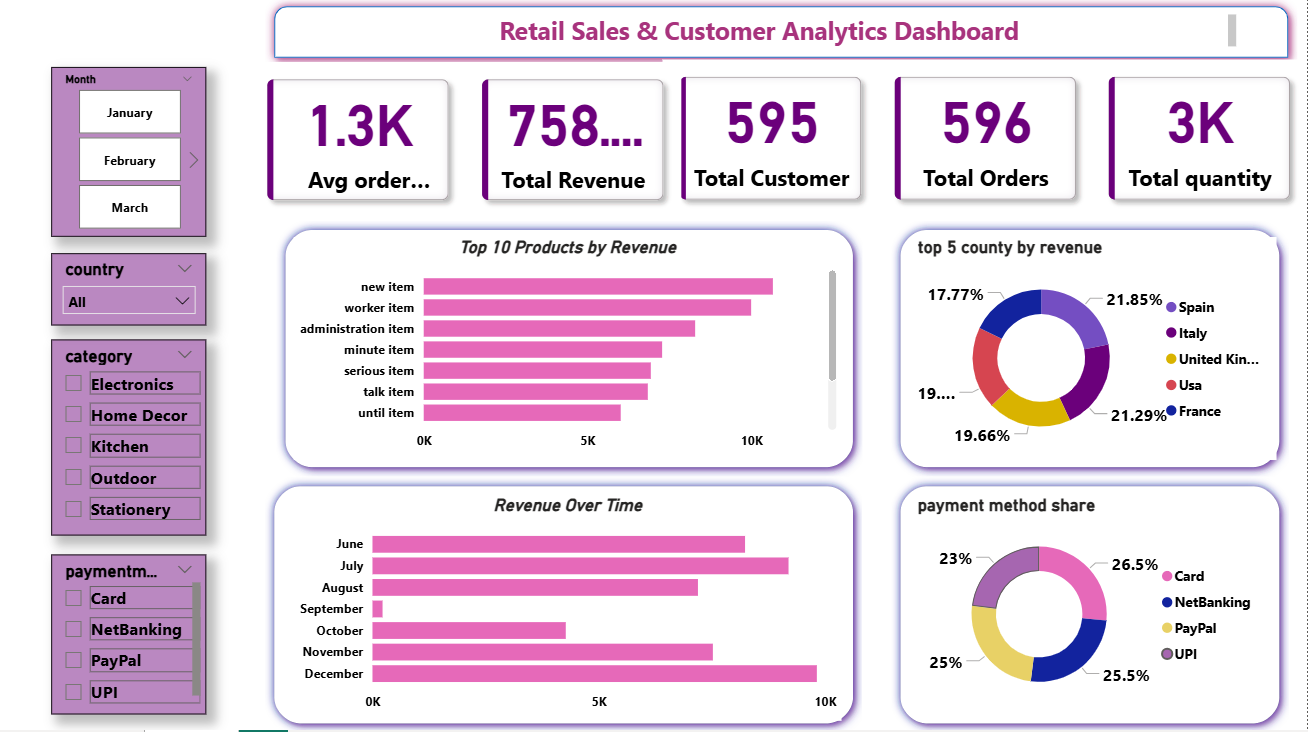

This screenshot's page, from the dashboard's own definition file:
{"tool":"powerbi","page":{"name":"Page 1","canvas":[1280,720],"ordinal":0},"visuals":[{"type":"shape","box":[263.4,0,1007.3,68.3],"z":0},{"type":"shape","box":[274.1,218.5,571.6,249.4],"z":1000},{"type":"shape","box":[263,467.9,582.7,249.4],"z":2000},{"type":"shape","box":[874.1,467.9,387.7,249.4],"z":3000},{"type":"shape","box":[874.1,218.5,387.7,249.4],"z":4000},{"type":"cardVisual","fields":{"Data":["Retail_Sales.Total Customer","Retail_Sales.Total Orders","Retail_Sales.Total quantity"]},"box":[651.2,61,629.3,154.9],"z":5000},{"type":"barChart","title":"Top 10 Products by Revenue","fields":{"Y":["Retail_Sales.Product Revenue"],"Category":["Retail_Sales.description"]},"box":[291.4,234.6,534.6,217.3],"z":6000},{"type":"cardVisual","fields":{"Data":["Retail_Sales.Average order value","Retail_Sales.Total Revenue"]},"box":[248.8,63.4,420.7,152.4],"z":7000},{"type":"barChart","title":"Revenue Over Time","fields":{"Y":["Retail_Sales.Customer Revenue"],"Category":["Retail_Sales.invoicedate.Variation.Date Hierarchy.Month"]},"box":[291.4,485.2,534.6,221],"z":8000},{"type":"donutChart","title":"payment method share","fields":{"Category":["Retail_Sales.paymentmethod"],"Y":["Retail_Sales.totalin"]},"box":[895.1,485.2,344.4,214.8],"z":9000},{"type":"pieChart","title":"top 5 county by revenue","fields":{"Category":["Retail_Sales.country"],"Y":["Retail_Sales.Total_Revenue"]},"box":[895.1,234.6,355.6,217.3],"z":10000},{"type":"slicer","fields":{"Values":["Retail_Sales.country"]},"box":[54.9,250,151.2,70.7],"z":11000},{"type":"slicer","fields":{"Values":["Retail_Sales.category"]},"box":[54.9,334.1,151.2,191.5],"z":12000},{"type":"slicer","fields":{"Values":["Retail_Sales.paymentmethod"]},"box":[54.9,543.9,151.2,156.1],"z":13000},{"type":"slicer","fields":{"Values":["Retail_Sales.invoicedate.Variation.Date Hierarchy.Month"]},"box":[54.9,68.3,151.2,165.9],"z":14000},{"type":"textbox","box":[282.9,12.2,932.9,41.5],"z":15000}]}

Visuals, with their boxes in screenshot pixels (x1, y1, x2, y2), scaled from the page's 1280x720 canvas onto the 1308x732 screenshot:
shape: (269, 0, 1298, 69)
shape: (280, 222, 864, 476)
shape: (269, 476, 864, 729)
shape: (893, 476, 1289, 729)
shape: (893, 222, 1289, 476)
cardVisual - Retail_Sales.Total Customer x Retail_Sales.Total Orders: (665, 62, 1307, 219)
"Top 10 Products by Revenue" barChart: (298, 239, 844, 459)
cardVisual - Retail_Sales.Average order value x Retail_Sales.Total Revenue: (254, 64, 684, 219)
"Revenue Over Time" barChart: (298, 493, 844, 718)
"payment method share" donutChart: (915, 493, 1267, 712)
"top 5 county by revenue" pieChart: (915, 239, 1278, 459)
slicer - Retail_Sales.country: (56, 254, 211, 326)
slicer - Retail_Sales.category: (56, 340, 211, 534)
slicer - Retail_Sales.paymentmethod: (56, 553, 211, 712)
slicer - Retail_Sales.invoicedate.Variation.Date Hierarchy.Month: (56, 69, 211, 238)
textbox: (289, 12, 1242, 55)
